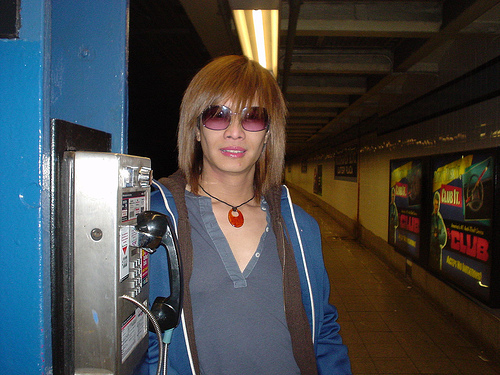without_mask: (173, 54, 290, 187)
